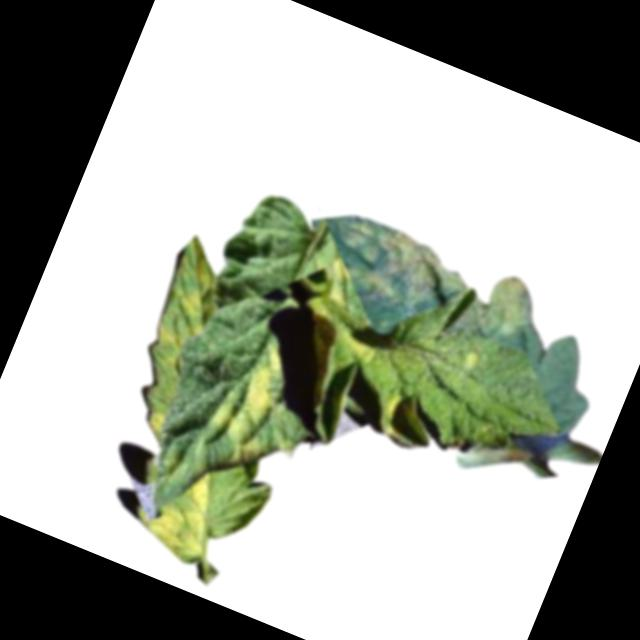Leaf_Mold: (321, 206, 551, 367), (127, 231, 238, 399), (198, 328, 308, 474), (295, 258, 404, 371), (136, 459, 229, 569), (373, 380, 448, 457), (139, 406, 170, 440)
